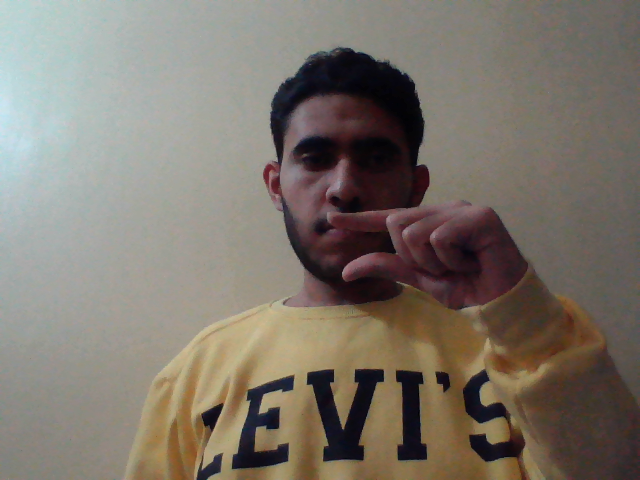G: (319, 198, 541, 328)
